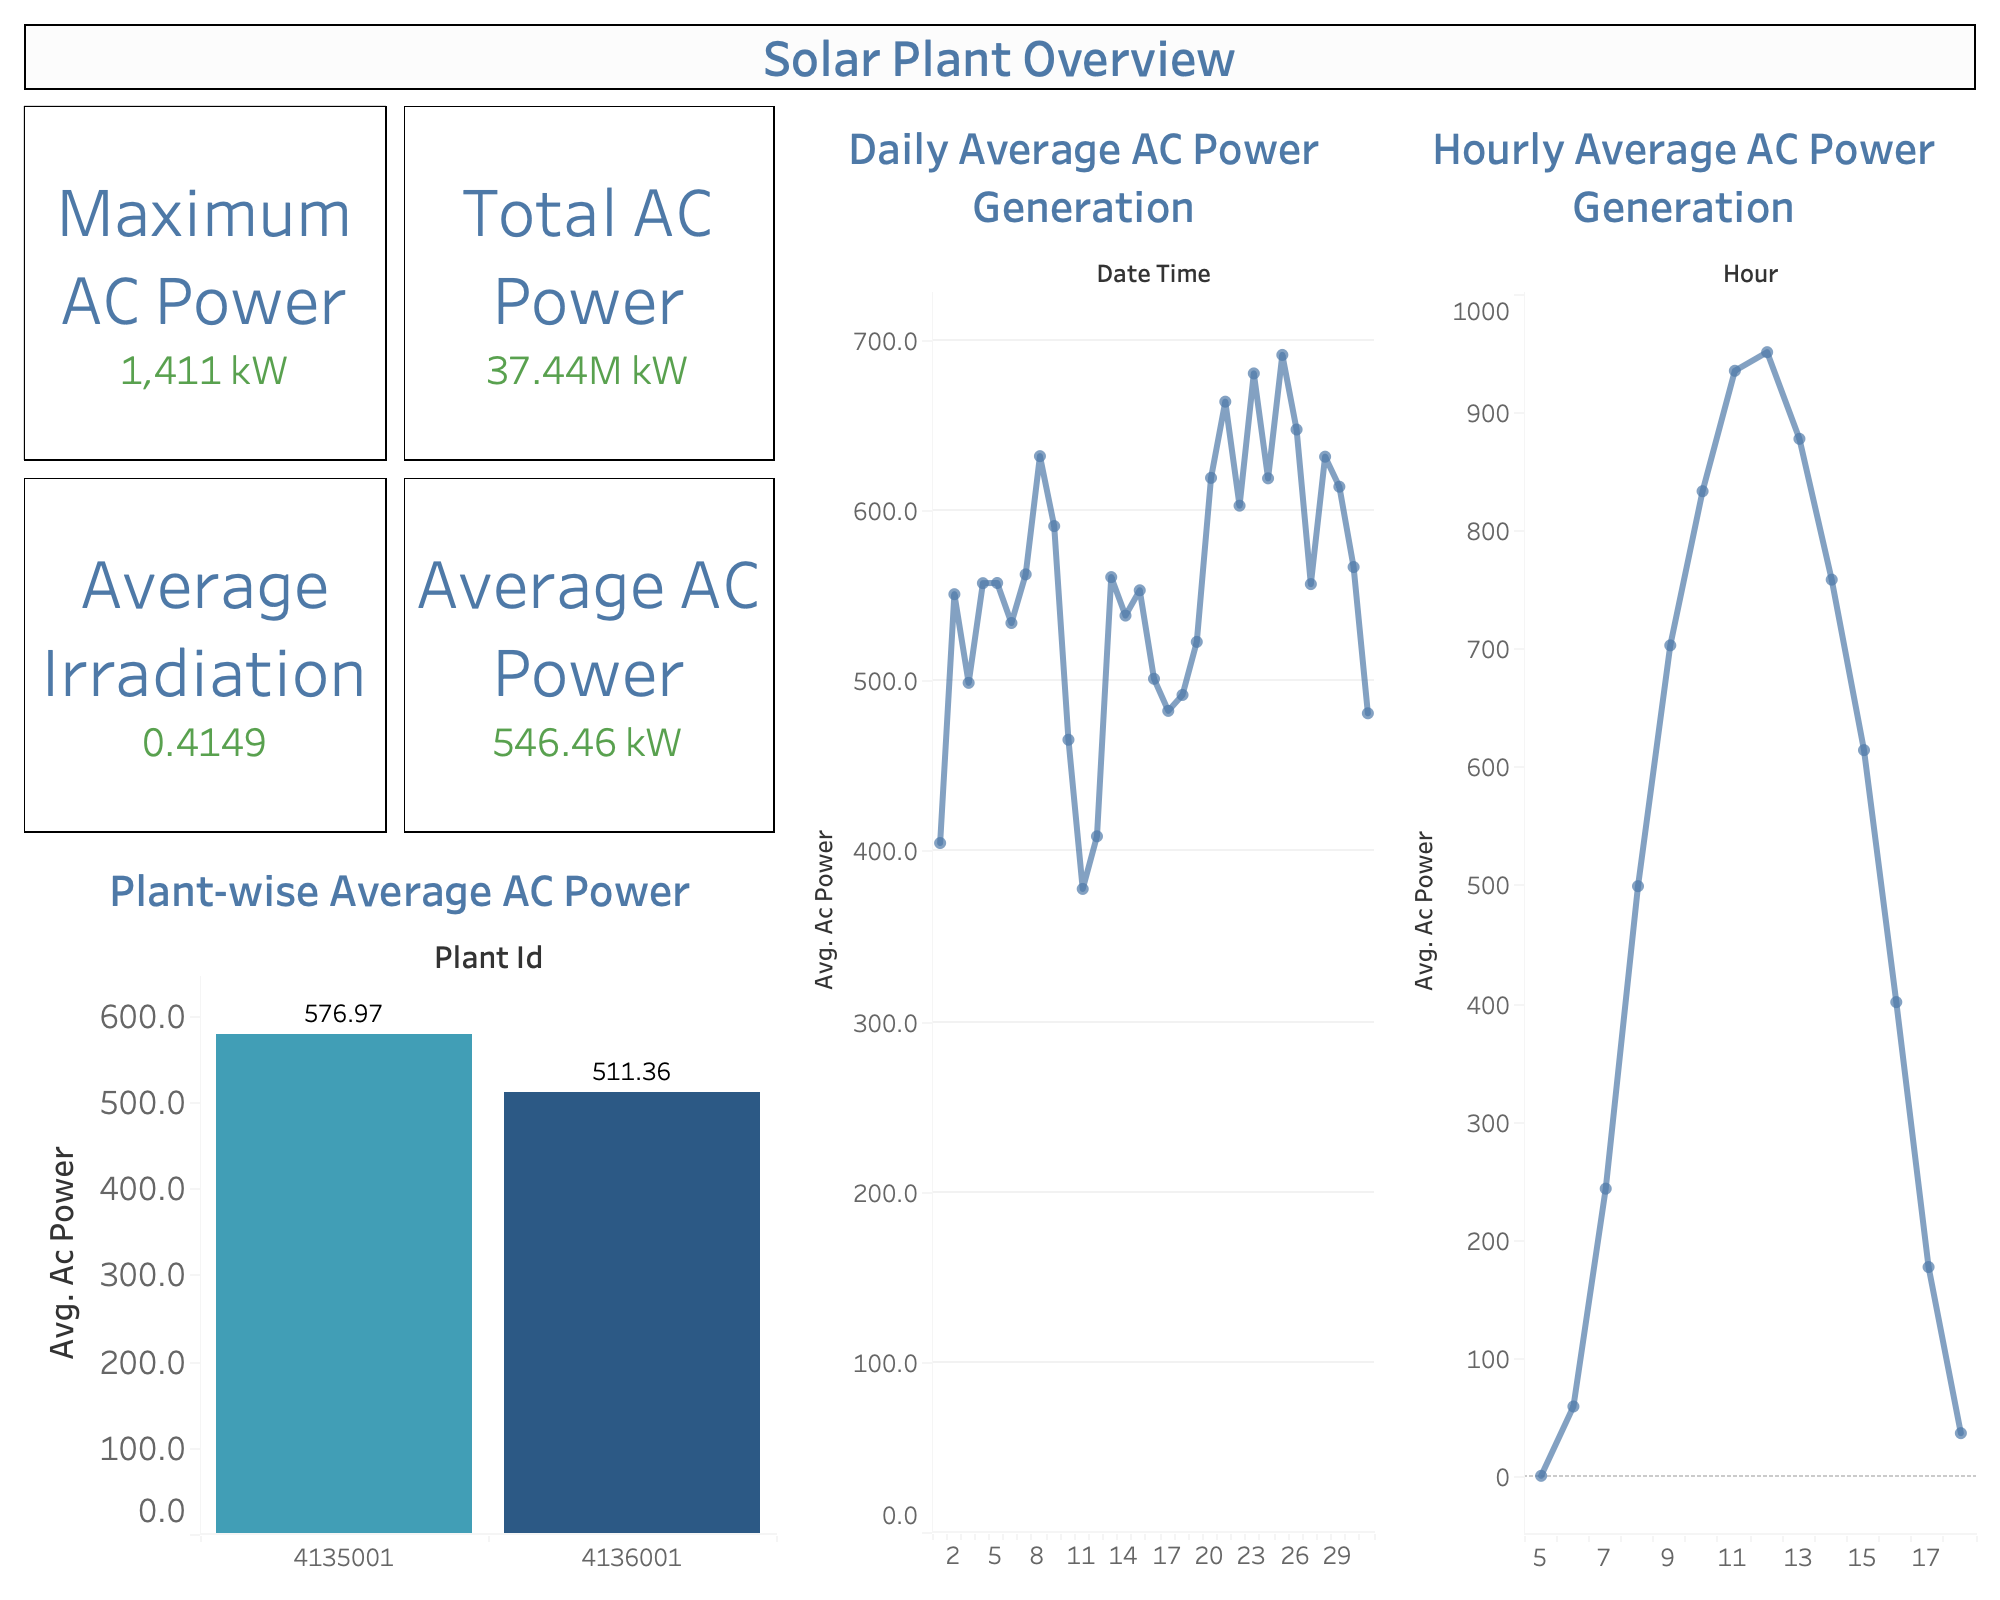

Layout of this report page (visuals, bound fields, positions):
{"tool":"tableau","page":{"name":"Solar Plant Overview","canvas":[1000,800],"ordinal":2},"visuals":[{"type":"title","box":[8,8,984,41]},{"type":"worksheet","title":"Max","mark":"Automatic","box":[8,49,190,185.7]},{"type":"worksheet","title":"Total","mark":"Automatic","box":[198,49,194,185.7]},{"type":"worksheet","title":"Daily Average AC Power","mark":"Automatic","rows":["AC_POWER"],"cols":["DATE_TIME"],"box":[392,49,300,743]},{"type":"worksheet","title":"Hourly Average AC Power","mark":"Line","rows":["AC_POWER"],"cols":["HOUR"],"box":[692,49,300,743]},{"type":"worksheet","title":"Irradiation","mark":"Automatic","box":[8,234.7,190,185.8]},{"type":"worksheet","title":"Avergae","mark":"Automatic","box":[198,234.7,194,185.8]},{"type":"worksheet","title":"Plant-wise Average AC Power","mark":"Bar","rows":["AC_POWER"],"cols":["PLANT_ID"],"box":[8,420.5,384,371.5]}]}

Visuals, with their boxes in screenshot pixels (x1, y1, x2, y2), scaled from the page's 1000x800 canvas onto the 2000x1600 screenshot:
title: bbox=[16, 16, 1984, 98]
"Max" worksheet: bbox=[16, 98, 396, 469]
"Total" worksheet: bbox=[396, 98, 784, 469]
"Daily Average AC Power" worksheet: bbox=[784, 98, 1384, 1584]
"Hourly Average AC Power" worksheet (Line marks): bbox=[1384, 98, 1984, 1584]
"Irradiation" worksheet: bbox=[16, 469, 396, 841]
"Avergae" worksheet: bbox=[396, 469, 784, 841]
"Plant-wise Average AC Power" worksheet (Bar marks): bbox=[16, 841, 784, 1584]
